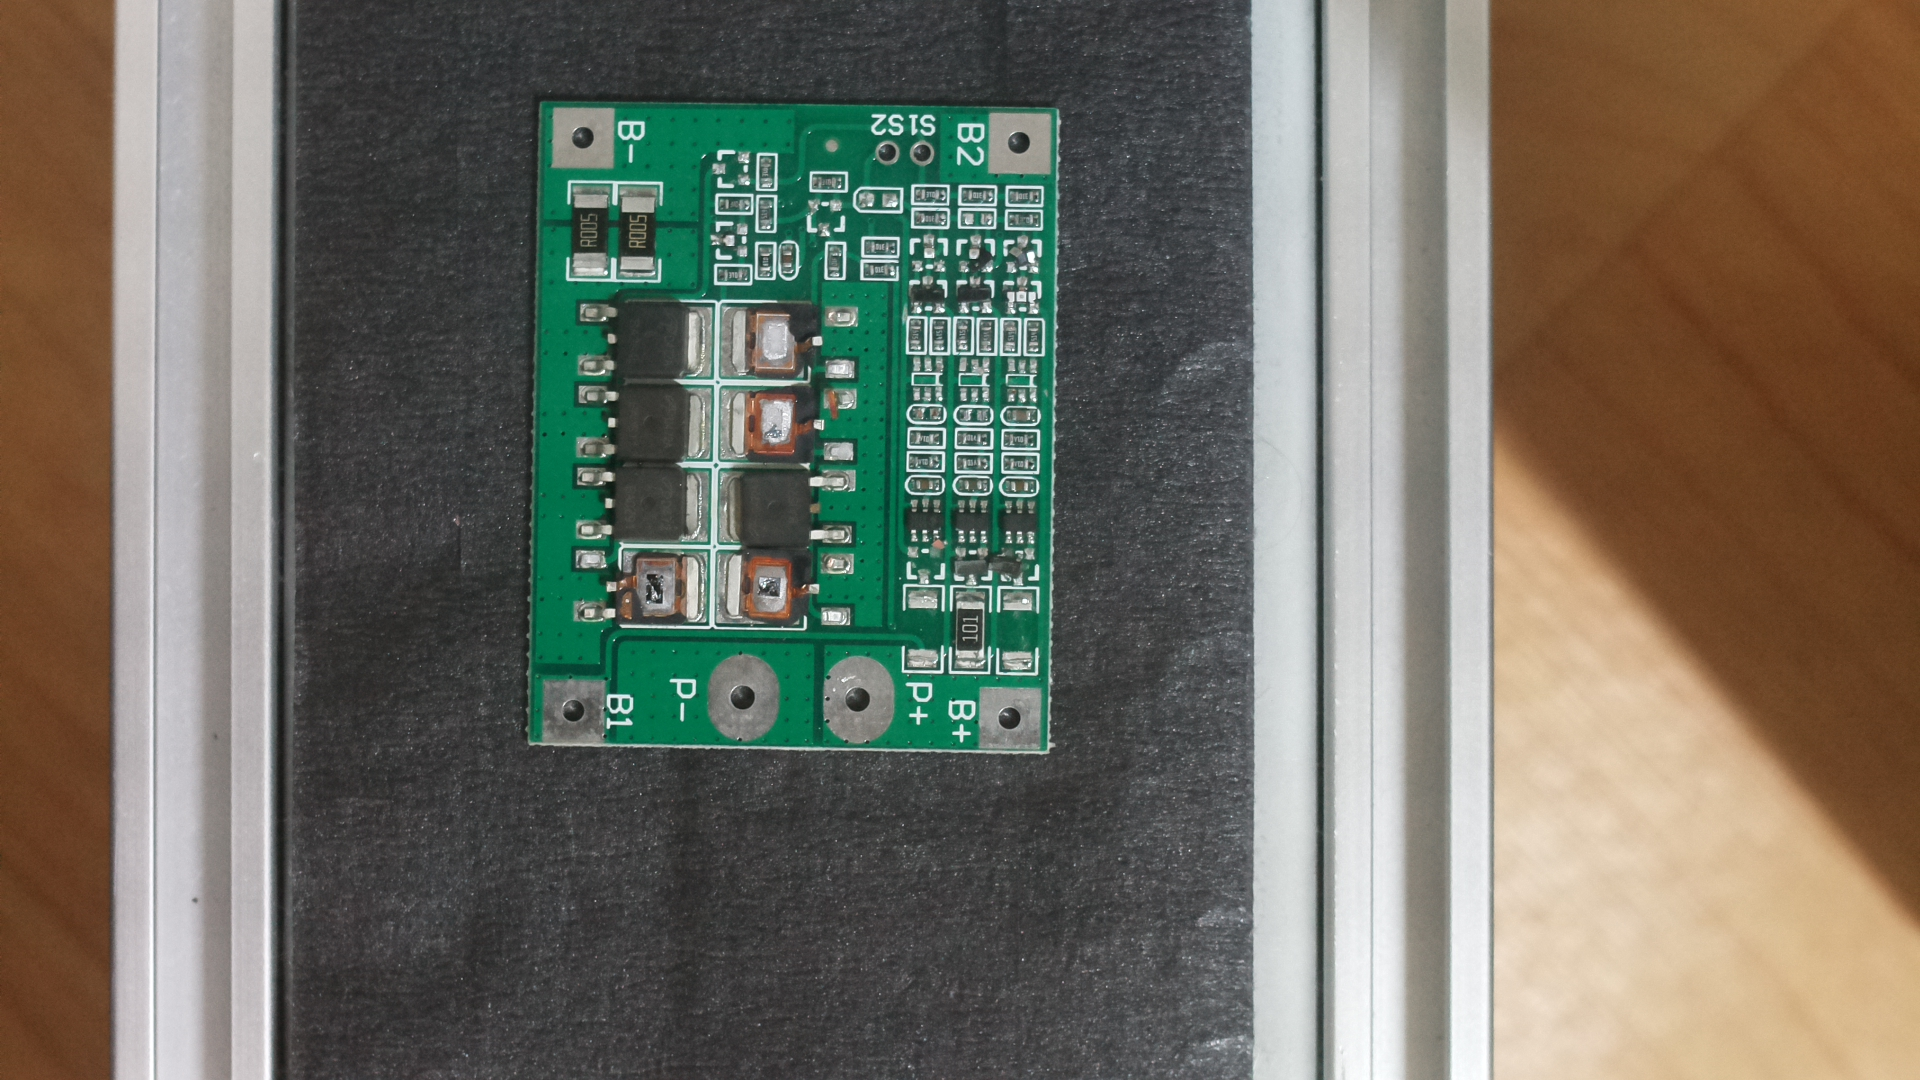C_Missing_part: (516, 84, 1060, 770)
